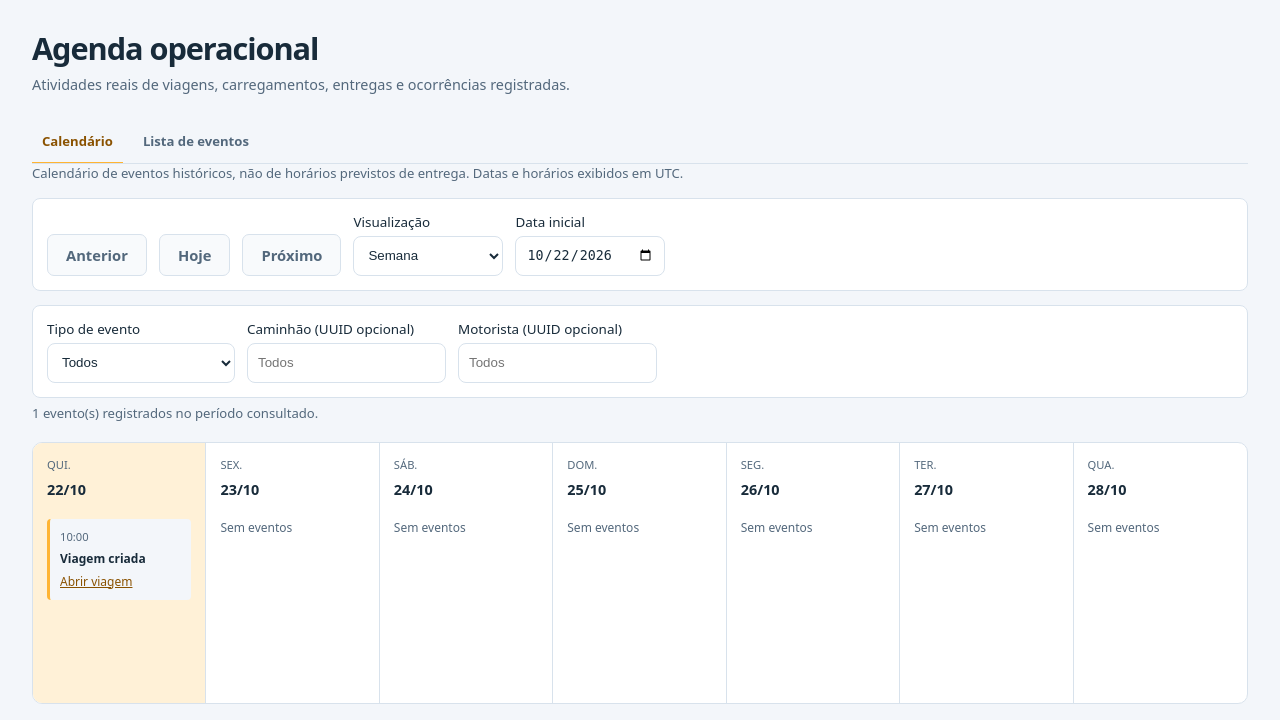
Scenario: AgendaPage › preserva uma data válida ao limpar o campo e mantém a navegação
Clear the date field labelled "Data inicial": (590, 256) [516, 236, 666, 276]
Click the button "Próximo": (292, 255) [242, 234, 342, 276]
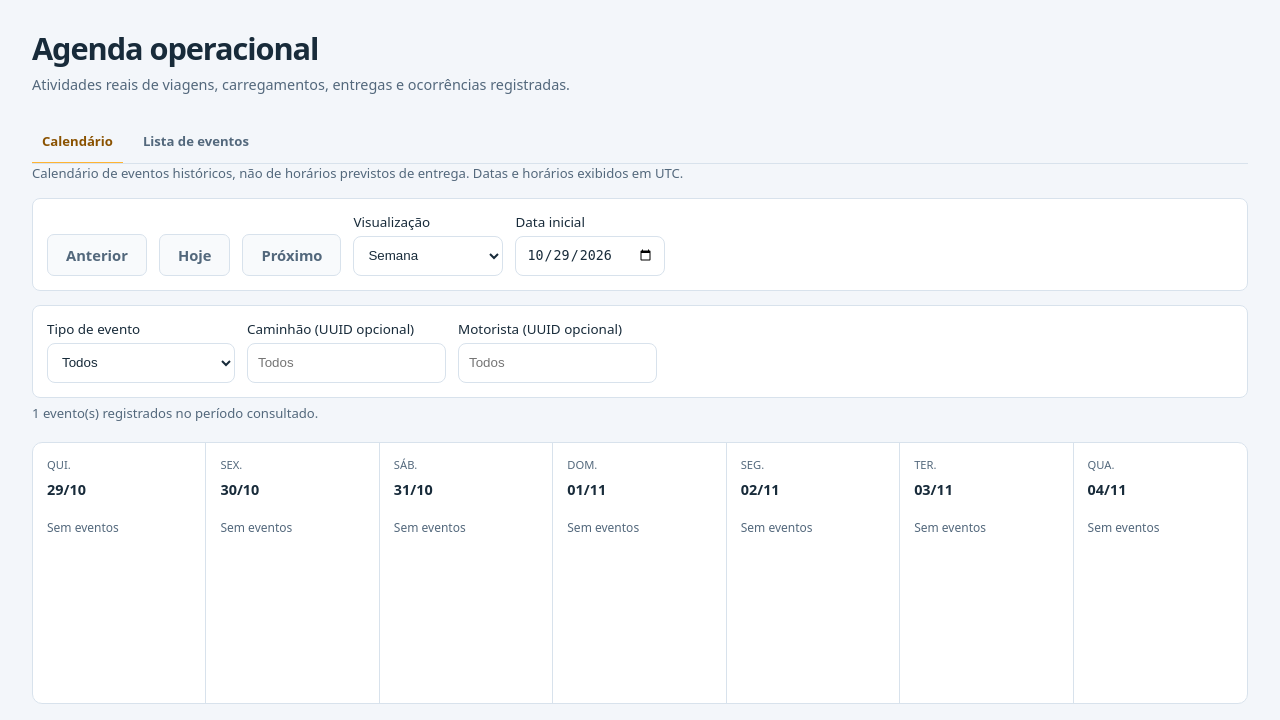
Expected: the date field labelled "Data inicial" does not hold "2026-10-22", [516, 236, 666, 276]
